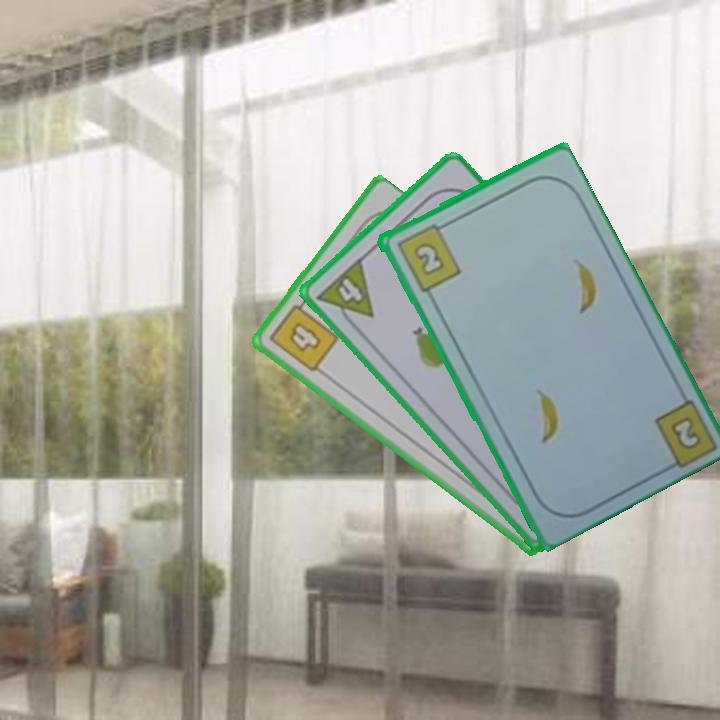2b: (650, 393, 717, 474), (393, 219, 463, 295)
4b: (265, 294, 342, 376)
4p: (313, 253, 377, 334)
